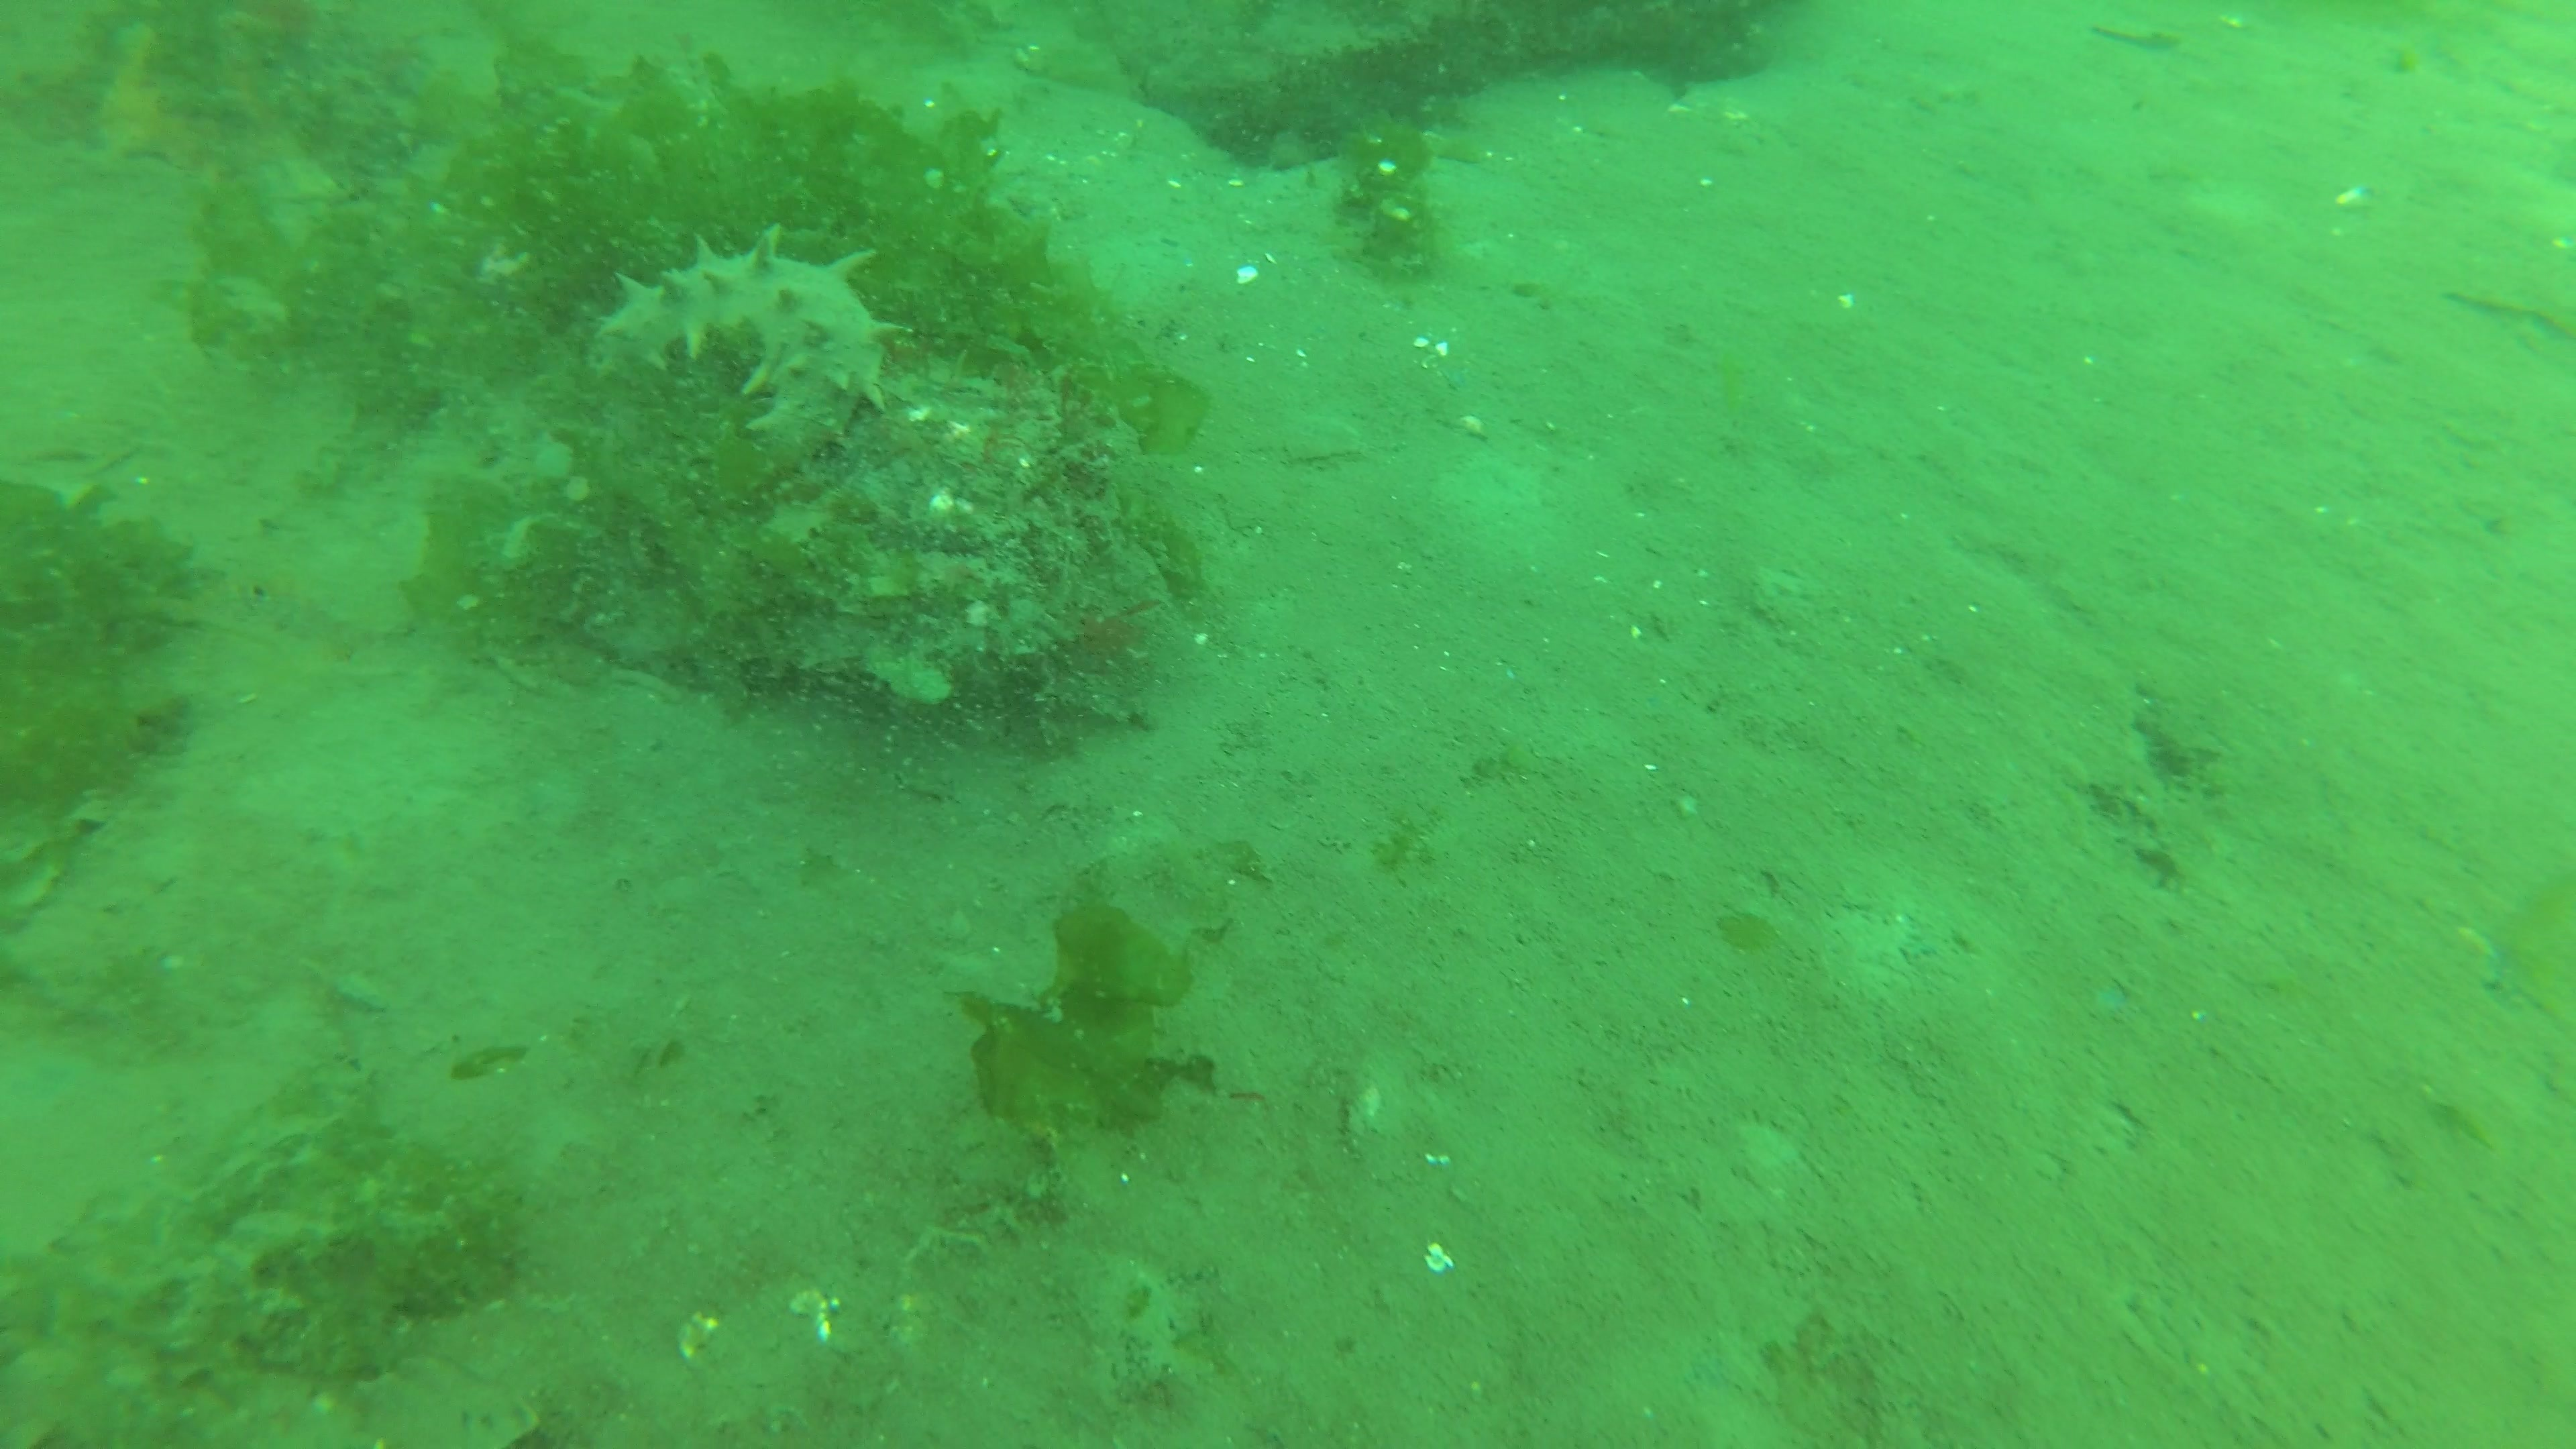holothurian: (586, 219, 901, 474)
scallop: (2098, 23, 2173, 53)
